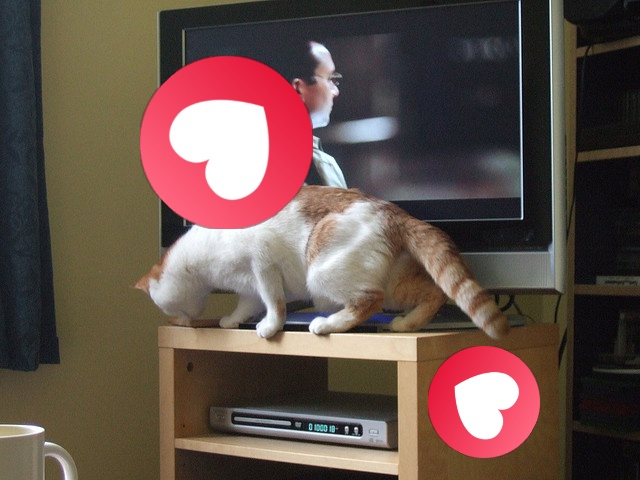love: (140, 56, 313, 229), (428, 346, 540, 458)
